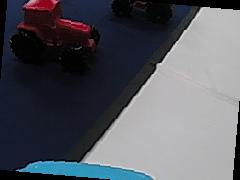Tracktor: (7, 0, 103, 63), (110, 1, 174, 23)
